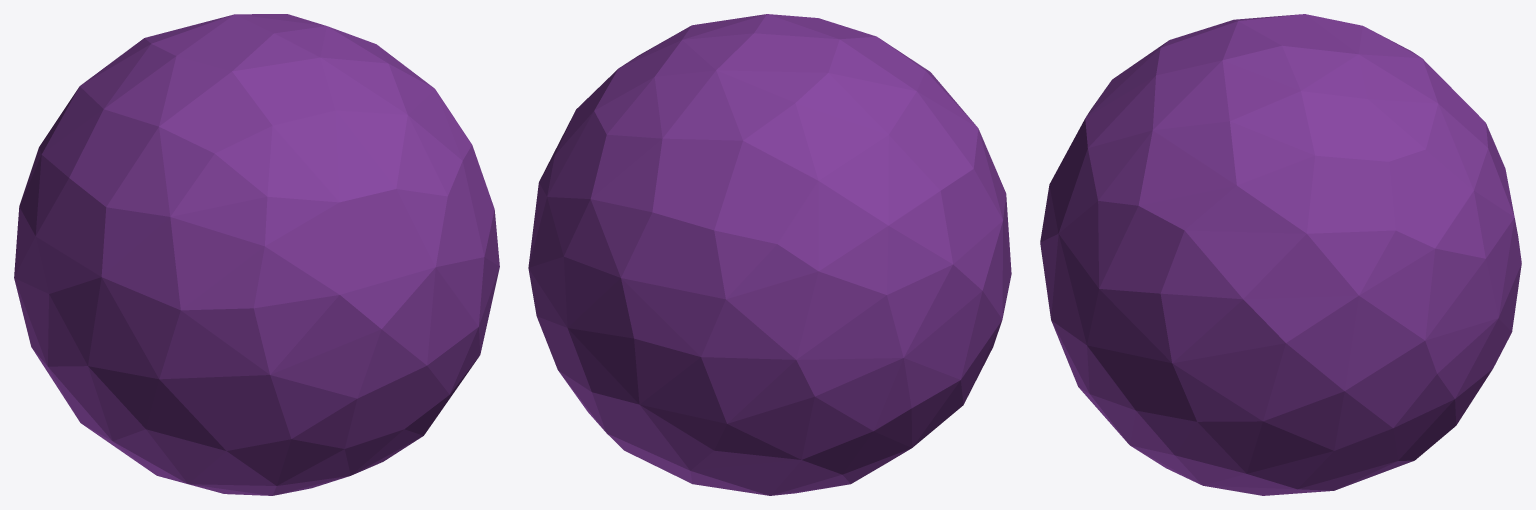
Rendered from Net Bottom.fbx.
3 renders of one model, left to right at view 1: azimuth 30°, elevation 25°; view 2: azimuth 150°, elevation 25°; view 3: azimuth 270°, elevation 25°, orthographic.
Visible parts, largest first — view 1: zBottom; view 2: zBottom; view 3: zBottom.
Boxes of the visible parts, x1,y1,x2,y2 form: zBottom: (14,14,499,495); zBottom: (528,14,1011,495); zBottom: (1040,14,1521,495).
Bounding box in the file's own units: 200 × 200 × 199.
